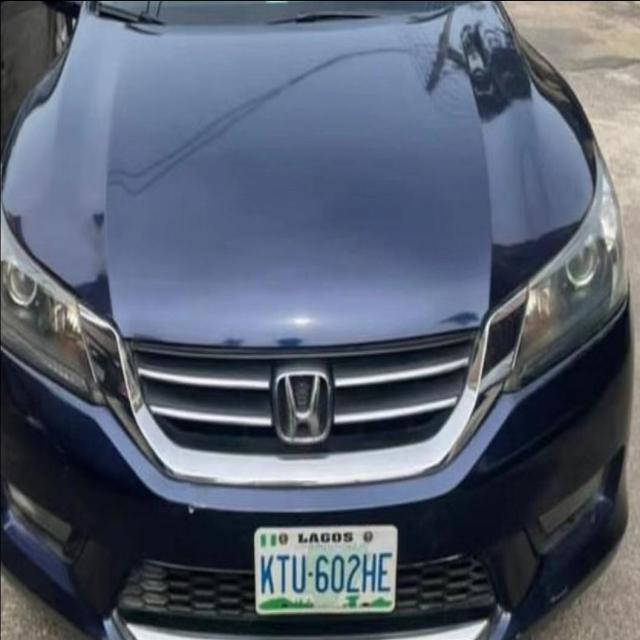Nigerian License Plate - vdataset benjamin-daria: (253, 524, 397, 618)
